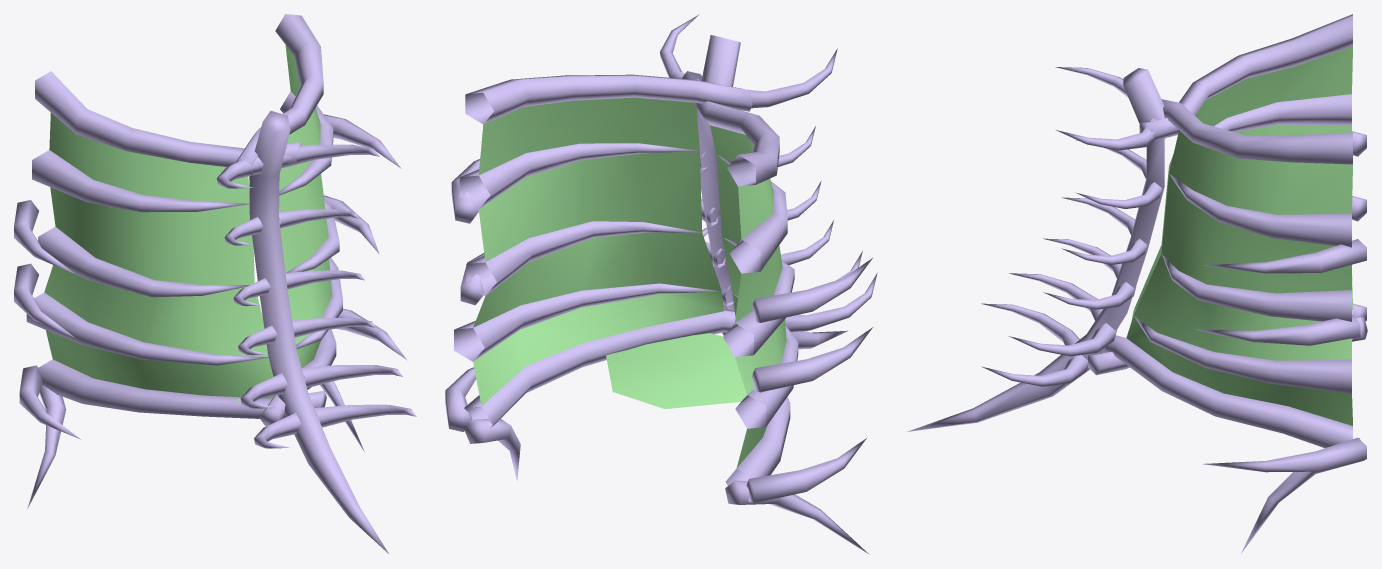
The picture shows the model from 3 angles, left to right: view 1: azimuth 30°, elevation 25°; view 2: azimuth 150°, elevation 25°; view 3: azimuth 270°, elevation 25°; orthographic projection. The views are drawn at different scales.
Visible parts, largest first — view 1: Object69; view 2: Object69; view 3: Object69.
Part boxes in pixels (x1,y1,x2,y2): Object69: (14, 14, 416, 553); Object69: (445, 14, 877, 554); Object69: (907, 14, 1367, 553).
Size of the model in its own units: 44827 by 48183 by 48441.
